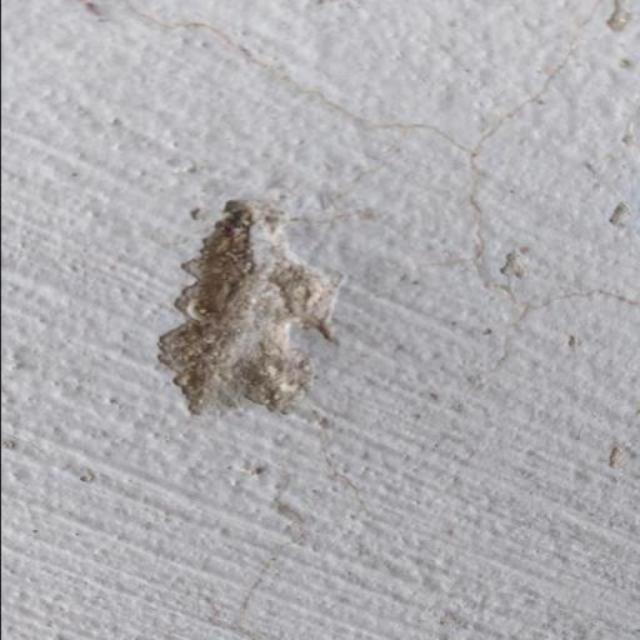D10: (158, 198, 341, 417)
